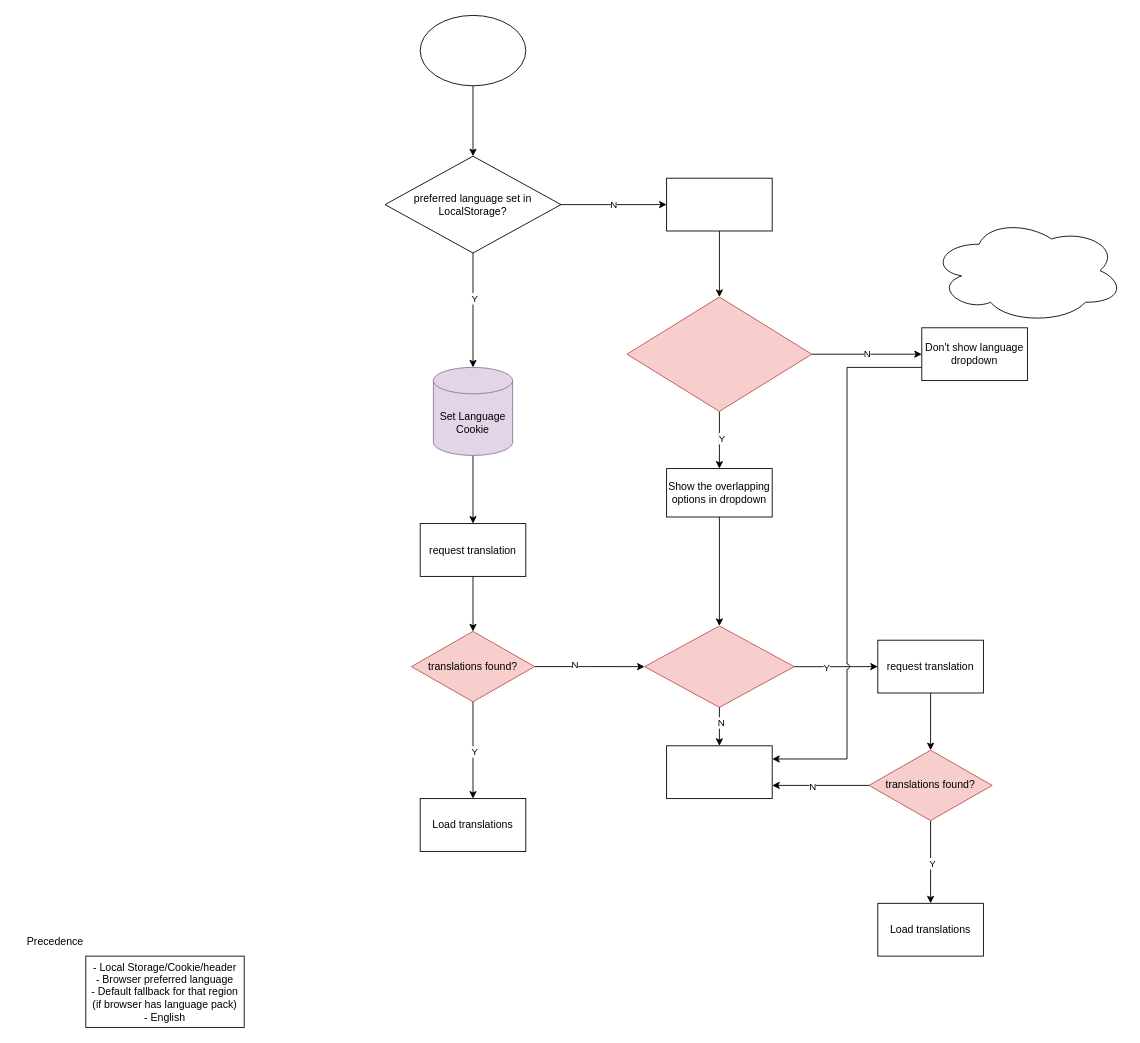
Image size: 1140x1043. Some labels were removed from this diagram. The shapes that lost their labels are listed below. From the top down, each one's centre as x and y in pixels, then its label:
At point (472, 50): "Login".
At point (719, 204): "Check supported languages and preferred language".
At point (1027, 270): "Should we push an info to download browser language pack?".
At point (719, 353): "Any overlap between app and browser supported languages other than English?".
At point (719, 666): "browser preferred language is available?".
At point (719, 772): "Load default preferred language for that region or fallback to English".
